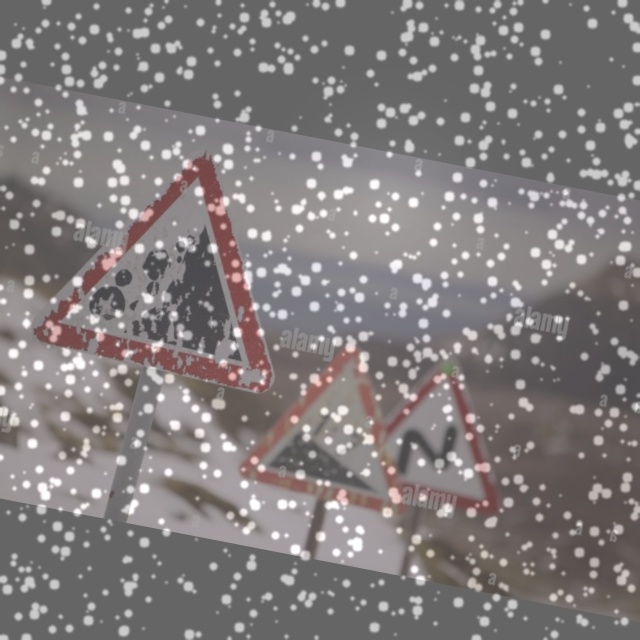Falling_Rocks: (44, 132, 300, 390)
